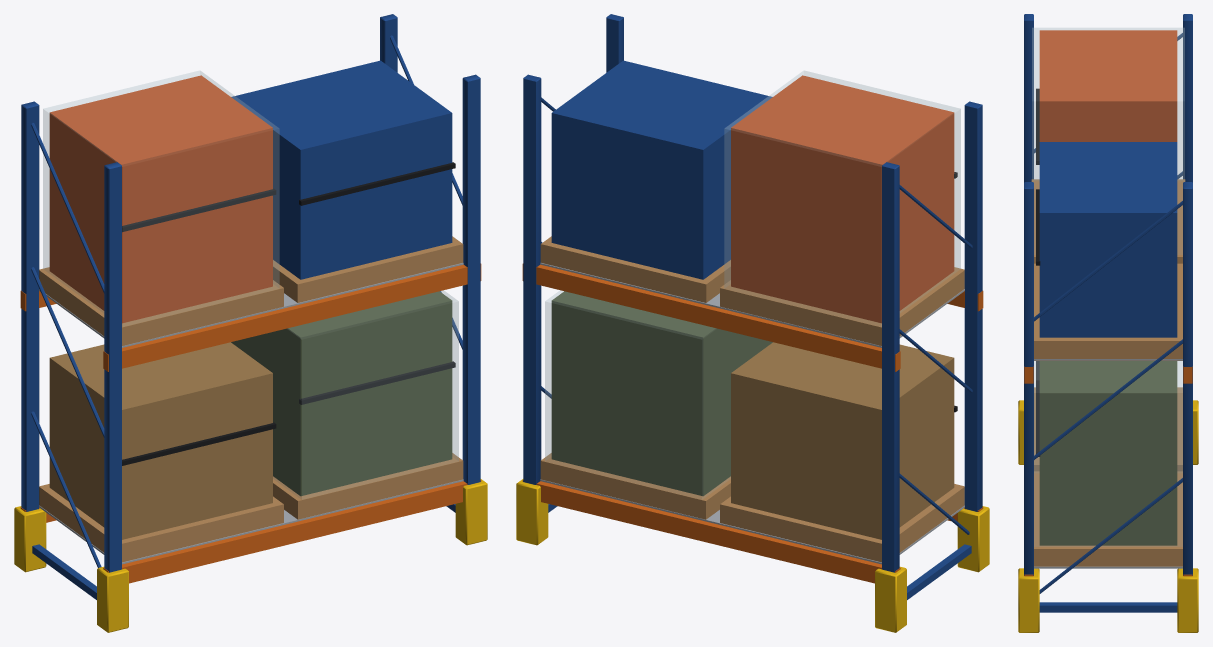
The model's file is pallet_rack_bay_low_wire.glb.
3 views of the same model, side by side, from view 1: azimuth 30°, elevation 25°; view 2: azimuth 150°, elevation 25°; view 3: azimuth 270°, elevation 25° (orthographic). The views are drawn at different scales.
Visible parts, largest first — view 1: pallet_rack_bay_low_wire; view 2: pallet_rack_bay_low_wire; view 3: pallet_rack_bay_low_wire.
Boxes of the visible parts, x1,y1,x2,y2 form: pallet_rack_bay_low_wire: [14, 14, 487, 632]; pallet_rack_bay_low_wire: [516, 14, 989, 632]; pallet_rack_bay_low_wire: [1018, 14, 1198, 632].
Size of the model in its own units: 2.76 by 3.2 by 1.18.
